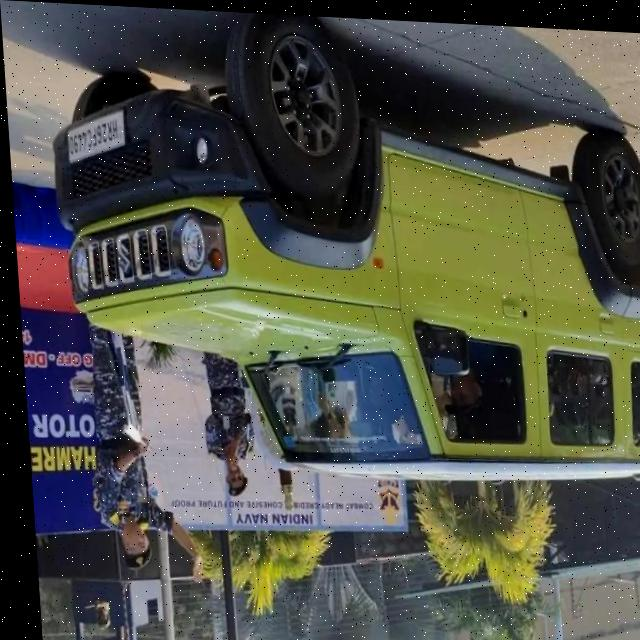plate: (63, 107, 127, 167)
